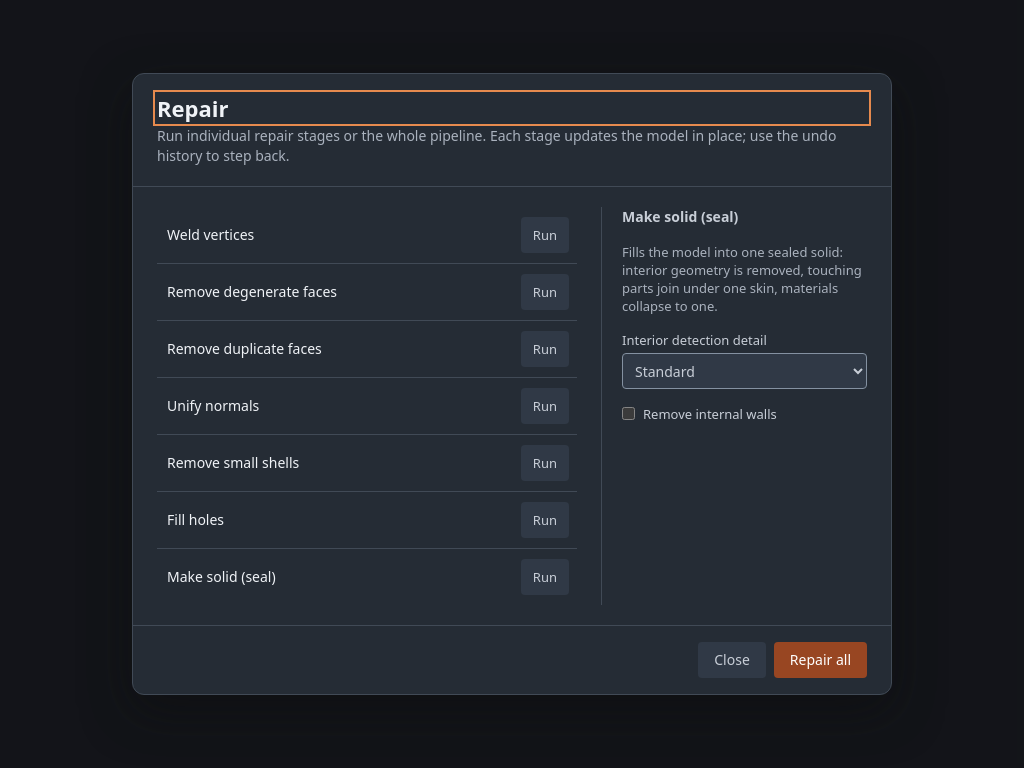
Scenario: shows failures inside the dialog and retains chosen settings for retry
Select "Fine, more memory" in the dropdown. click: (744, 371)
box: [622, 353, 867, 389]
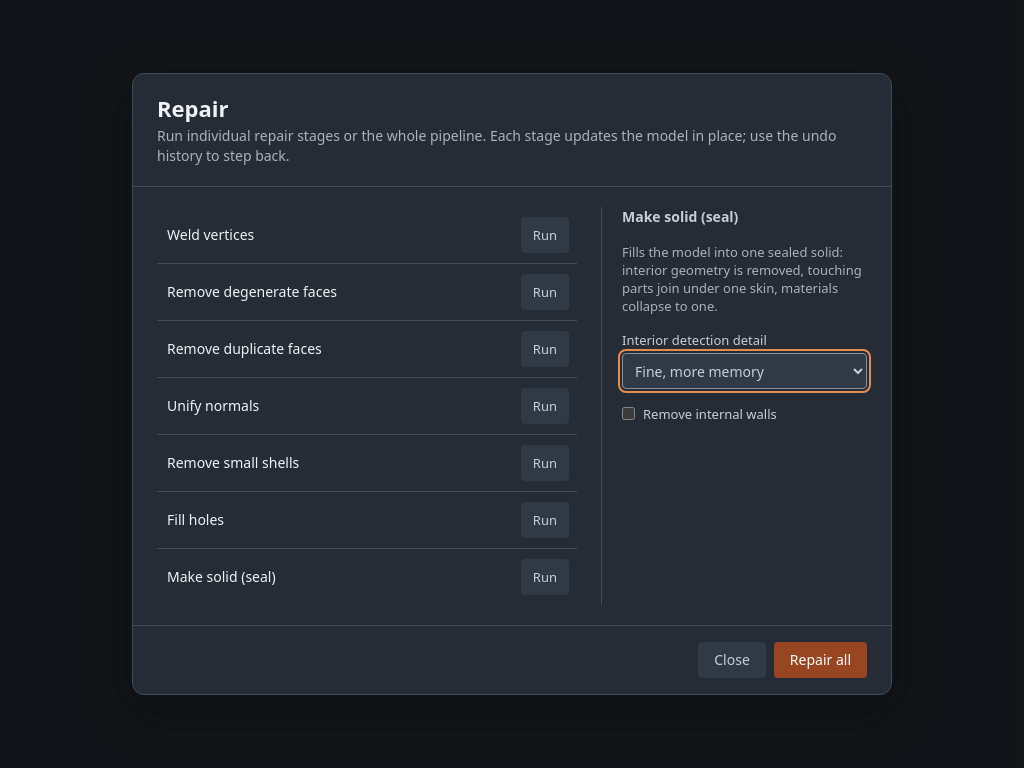
Click the button "Repair all". click: (820, 660)
box: [774, 642, 867, 678]
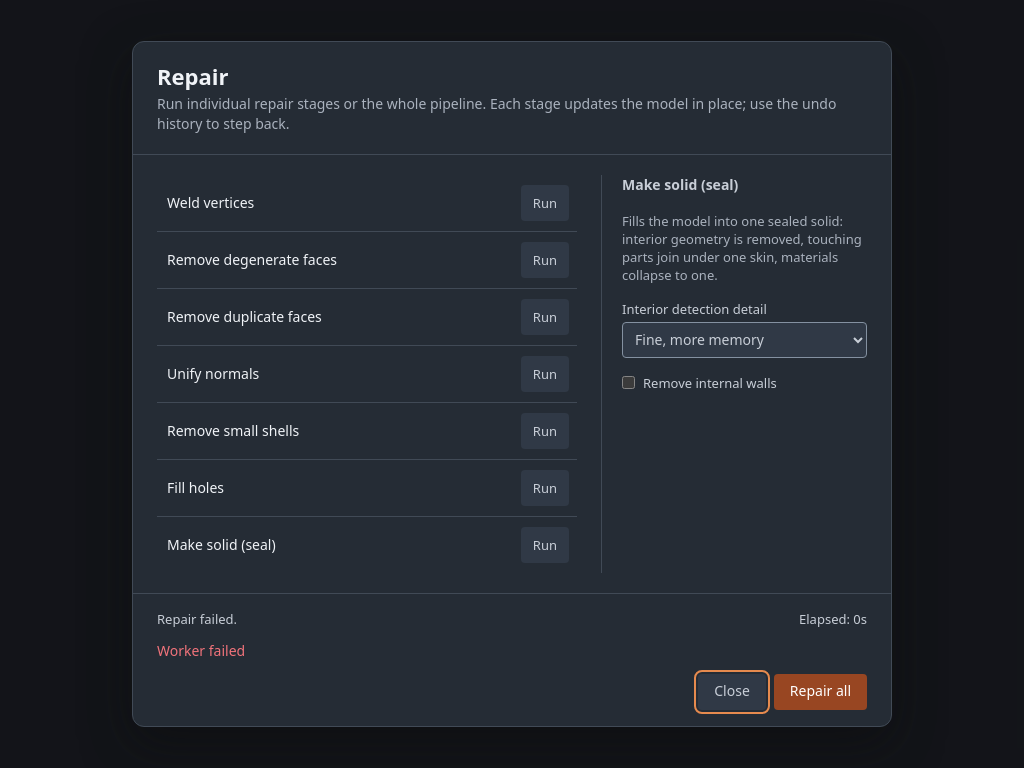
Expected: the dropdown is enabled, [622, 322, 867, 358]
Expected: the message "Worker failed" is shown, [157, 641, 245, 660]
